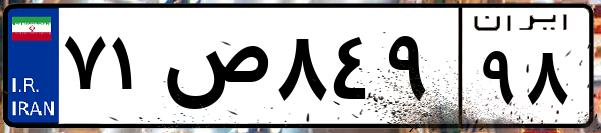1: (110, 28, 158, 98)
4: (330, 28, 385, 110)
7: (57, 26, 110, 100)
8: (270, 28, 330, 110), (525, 38, 570, 115)
9: (385, 28, 445, 110), (475, 38, 525, 113)
ص: (158, 20, 270, 120)
